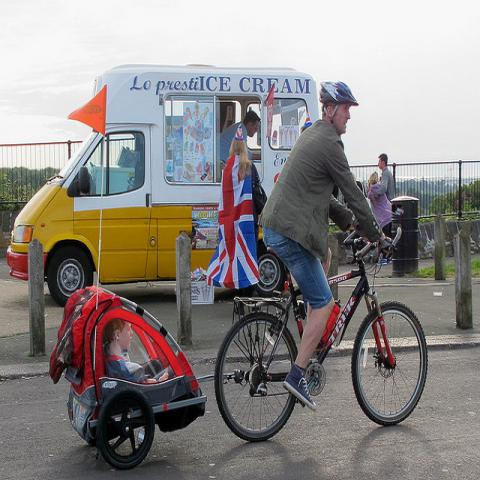truck: (7, 62, 321, 307)
